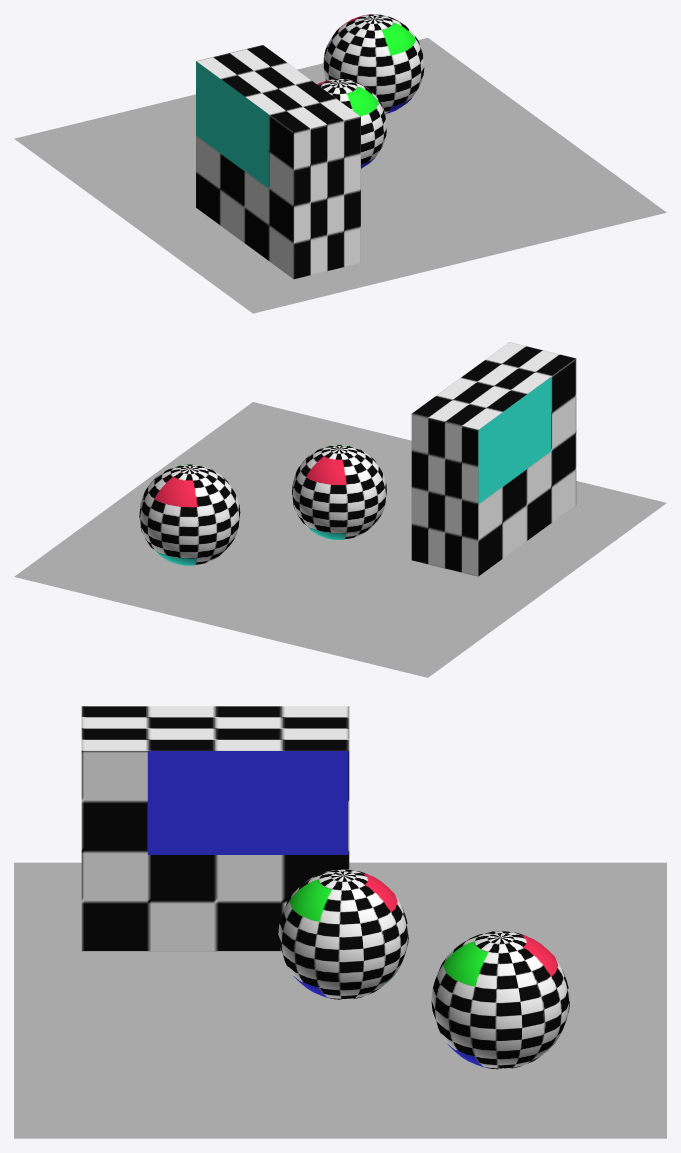
File: ref3_blurry.fbx
3 views of the same model, one above another, from view 1: azimuth 30°, elevation 25°; view 2: azimuth 150°, elevation 25°; view 3: azimuth 270°, elevation 25° (orthographic). The views are drawn at different scales.
Parts seen in each view (by area): view 1: polySurface6; view 2: polySurface6; view 3: polySurface6.
Boxes of the visible parts, <box> form: polySurface6: <box>14,14,666,313</box>; polySurface6: <box>14,342,666,677</box>; polySurface6: <box>14,706,666,1138</box>.
Bounding box in the file's own units: 100 × 34.01 × 100.
2 materials, 1 textured.
